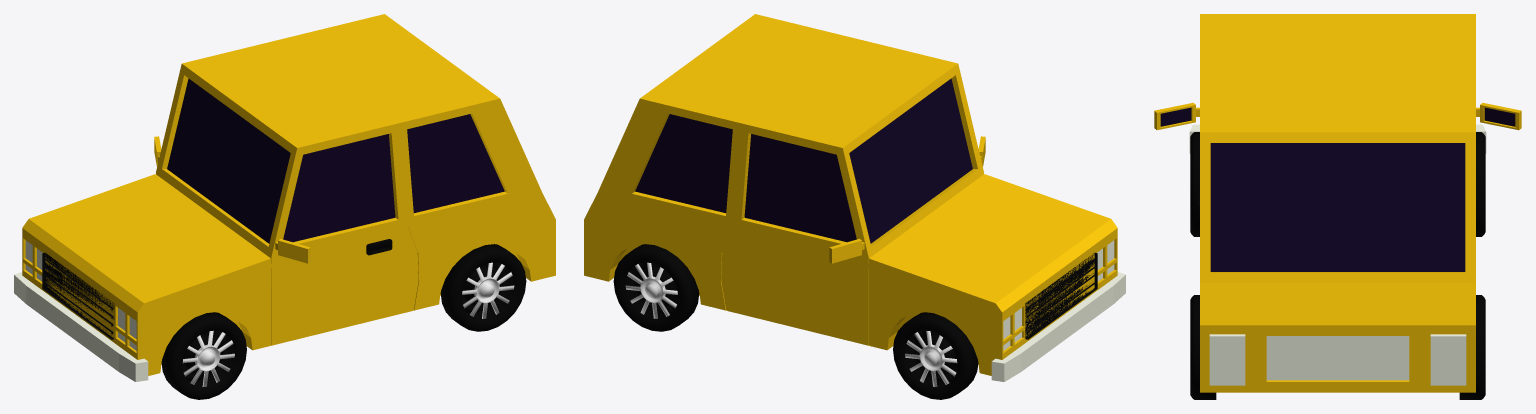
The picture shows the model from 3 angles, left to right: view 1: azimuth 30°, elevation 25°; view 2: azimuth 150°, elevation 25°; view 3: azimuth 270°, elevation 25°; orthographic projection. The views are drawn at different scales.
Visible parts, largest first — view 1: Vert.002; view 2: Vert.002; view 3: Vert.002.
Boxes of the visible parts, box(x1,y1,x2,y2) form: Vert.002: box(14, 14, 555, 399); Vert.002: box(584, 14, 1125, 399); Vert.002: box(1154, 14, 1521, 399).
Size of the model in its own units: 434 by 220 by 269.
